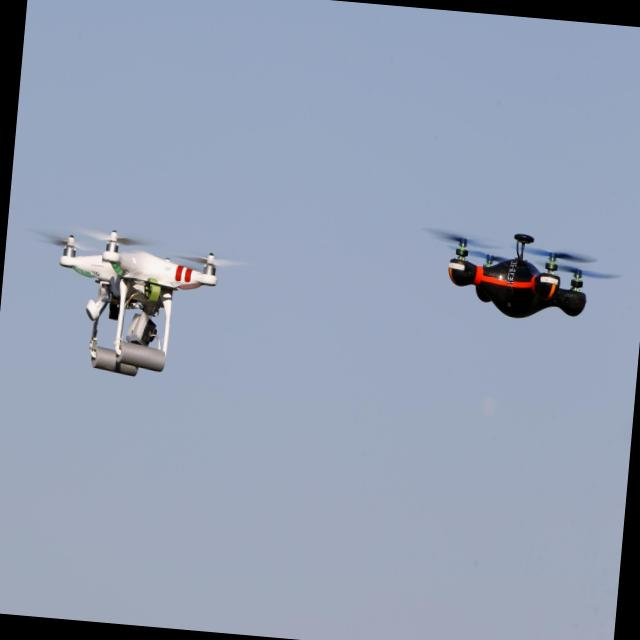drone: (46, 220, 223, 388), (417, 222, 620, 331)
